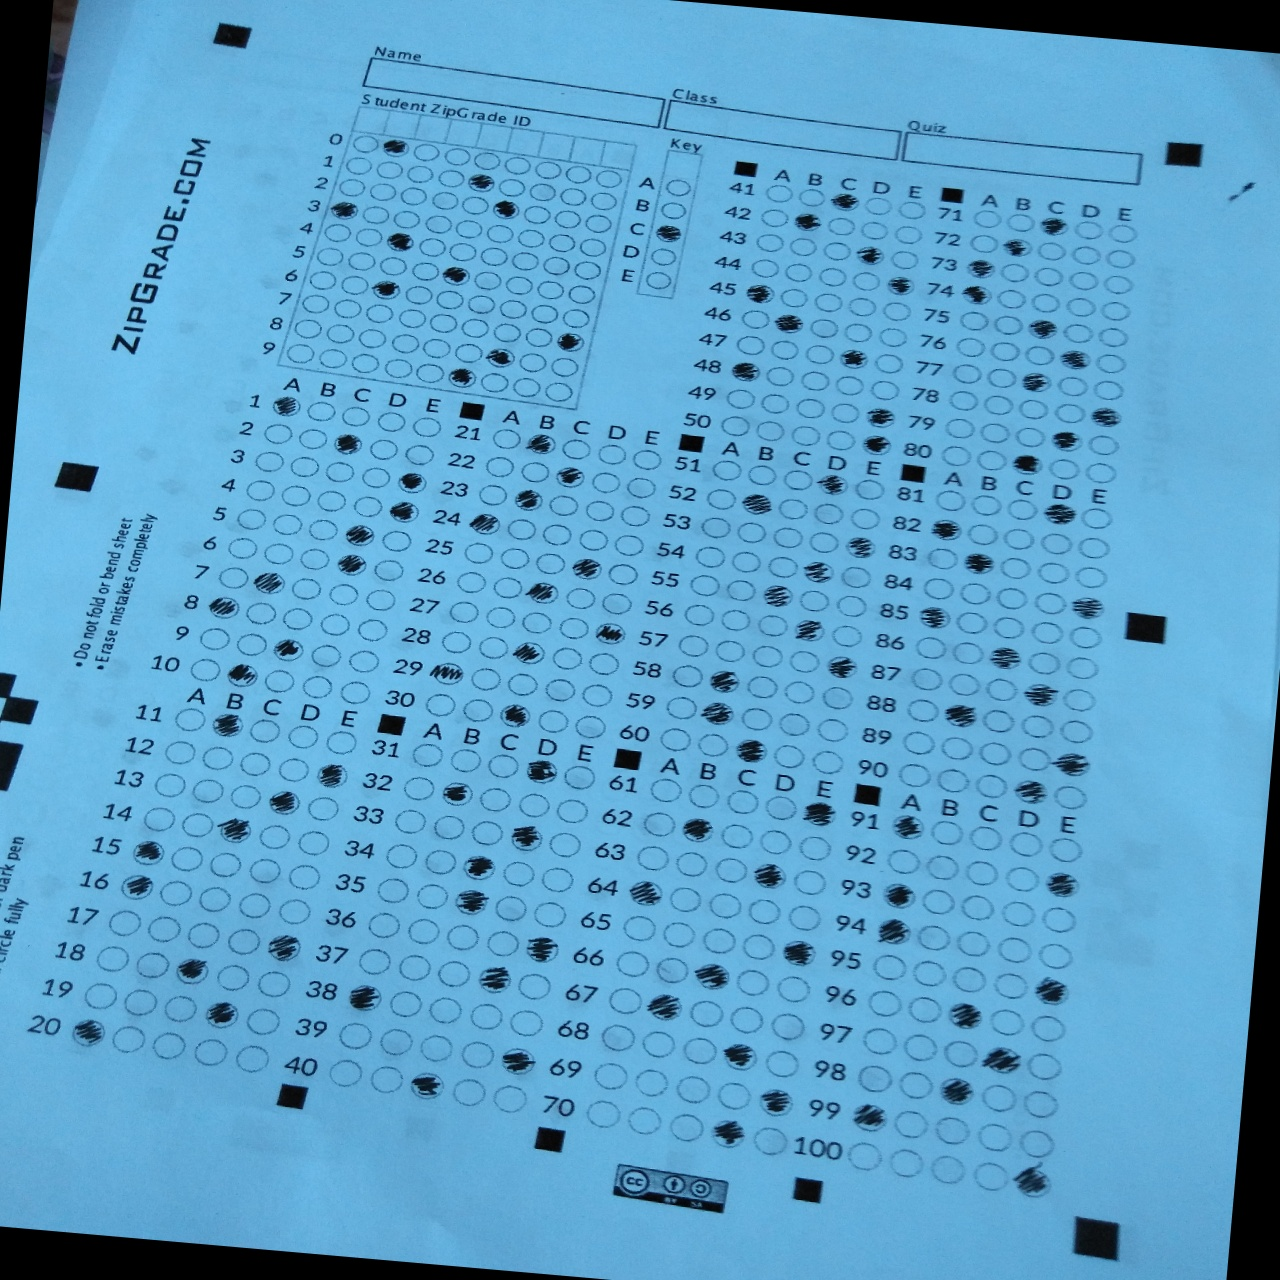not-c: (1015, 1126, 1058, 1160), (932, 1114, 974, 1148), (699, 924, 738, 958), (978, 1082, 1019, 1115), (971, 1160, 1012, 1193), (673, 1073, 712, 1107), (666, 883, 704, 917), (967, 823, 1006, 857), (1047, 833, 1085, 867), (713, 1080, 753, 1112), (631, 1067, 670, 1099), (604, 985, 644, 1017), (762, 1048, 802, 1081), (767, 1010, 806, 1043), (772, 973, 812, 1006), (704, 890, 744, 922), (685, 781, 724, 813), (1006, 829, 1046, 862), (1003, 863, 1043, 896), (1000, 897, 1040, 930), (910, 958, 949, 990), (871, 951, 911, 983), (990, 968, 1030, 1001), (1020, 1088, 1060, 1121), (974, 1121, 1014, 1153), (881, 845, 922, 877), (855, 1063, 896, 1095), (885, 1148, 926, 1179), (750, 1125, 789, 1158), (660, 919, 699, 952), (673, 846, 712, 879), (633, 842, 672, 874), (646, 774, 685, 806), (723, 787, 762, 819), (928, 816, 967, 849), (1040, 903, 1078, 935), (1036, 940, 1075, 973), (987, 1006, 1026, 1039), (1029, 1012, 1068, 1044), (901, 1032, 940, 1064), (862, 1024, 900, 1057), (624, 1104, 663, 1136), (666, 1111, 706, 1143), (611, 949, 651, 981), (680, 1034, 720, 1065), (733, 967, 772, 999), (738, 932, 778, 964), (712, 853, 751, 885), (924, 850, 964, 881), (995, 933, 1035, 965), (865, 986, 905, 1017), (896, 1069, 935, 1101), (891, 1108, 931, 1139), (844, 1141, 884, 1172), (927, 1153, 967, 1185), (246, 855, 284, 887), (400, 774, 437, 806), (121, 985, 158, 1017), (416, 1032, 454, 1064), (516, 971, 553, 1003), (593, 1060, 631, 1092), (954, 927, 992, 960), (475, 783, 513, 815), (234, 890, 273, 921), (244, 1005, 282, 1036), (584, 1098, 622, 1130), (619, 911, 658, 942), (653, 956, 692, 988), (640, 1029, 679, 1061), (728, 1005, 767, 1036), (785, 903, 824, 934), (791, 866, 830, 898), (797, 835, 836, 866), (716, 821, 755, 852), (639, 809, 678, 840), (919, 885, 958, 917), (958, 891, 996, 922), (962, 858, 1001, 890), (949, 964, 988, 995), (1024, 1050, 1063, 1082), (769, 740, 808, 771), (206, 849, 243, 881), (546, 829, 583, 862), (539, 862, 576, 894), (95, 942, 131, 975), (365, 908, 401, 941), (484, 750, 522, 782), (414, 880, 451, 912), (157, 877, 195, 908), (184, 919, 222, 951), (275, 896, 313, 927), (192, 1036, 230, 1068), (327, 1058, 365, 1090), (490, 1083, 527, 1115), (444, 921, 482, 953), (396, 952, 434, 983), (599, 1022, 636, 1054), (689, 998, 727, 1029), (745, 896, 783, 927), (757, 826, 795, 858), (762, 792, 799, 824), (915, 920, 953, 952), (905, 994, 942, 1026), (940, 1037, 978, 1069), (899, 728, 937, 760), (1063, 653, 1101, 685), (809, 745, 846, 777), (663, 692, 701, 723), (468, 818, 506, 849), (467, 1002, 505, 1033), (1057, 717, 1096, 748), (1060, 685, 1098, 715), (377, 1026, 413, 1058), (374, 876, 410, 907), (383, 842, 420, 873), (553, 796, 590, 828), (532, 898, 568, 930), (493, 892, 530, 924), (422, 846, 458, 878), (168, 843, 204, 874), (135, 949, 171, 981), (151, 1030, 188, 1062), (215, 961, 251, 993), (225, 926, 261, 958), (256, 968, 292, 1000), (335, 1020, 372, 1051), (459, 1040, 496, 1071), (355, 946, 392, 978), (435, 959, 471, 990), (428, 994, 464, 1026), (369, 1063, 406, 1095), (787, 645, 823, 676), (285, 862, 322, 892), (105, 908, 143, 939), (508, 1008, 545, 1039), (483, 928, 520, 959), (896, 761, 933, 791), (939, 735, 976, 765), (904, 694, 941, 724), (907, 665, 945, 695), (946, 669, 983, 700), (983, 674, 1021, 704), (980, 706, 1017, 736), (1053, 783, 1090, 813), (674, 631, 712, 661), (912, 633, 949, 663), (920, 572, 958, 602), (972, 771, 1010, 801), (410, 740, 445, 771), (561, 762, 597, 794), (406, 915, 441, 947), (392, 806, 428, 837), (447, 745, 483, 776), (516, 790, 552, 821), (145, 914, 182, 945), (83, 981, 120, 1012), (110, 1023, 147, 1054), (163, 994, 199, 1024), (198, 885, 234, 915), (234, 1043, 271, 1074), (450, 1076, 486, 1107), (388, 989, 424, 1020), (934, 765, 971, 796), (669, 662, 706, 693), (978, 738, 1015, 768), (1017, 712, 1055, 741), (694, 730, 731, 760), (658, 724, 695, 754), (712, 635, 749, 665), (737, 704, 775, 734), (501, 859, 536, 890), (431, 812, 467, 843), (1016, 743, 1053, 772), (750, 642, 787, 672), (781, 678, 817, 707), (743, 673, 779, 702), (755, 611, 791, 640), (813, 716, 851, 744), (680, 601, 717, 629), (829, 622, 866, 651), (998, 554, 1035, 583), (261, 667, 297, 696), (483, 602, 518, 632), (719, 607, 754, 636), (422, 690, 458, 719), (141, 805, 177, 833), (776, 710, 812, 738), (1033, 588, 1069, 617), (796, 588, 833, 615), (687, 571, 724, 598), (837, 564, 874, 591), (1024, 651, 1062, 678), (933, 488, 971, 515), (708, 456, 745, 483), (173, 706, 207, 735), (579, 681, 613, 710), (297, 829, 331, 858), (300, 673, 335, 701), (188, 656, 223, 685), (535, 706, 570, 734), (543, 676, 578, 704), (468, 666, 503, 694), (476, 634, 511, 662), (550, 645, 585, 673), (445, 598, 481, 626), (452, 568, 488, 597), (598, 588, 633, 617), (285, 723, 320, 751), (277, 756, 312, 784), (189, 776, 224, 804), (821, 683, 856, 712), (703, 486, 738, 515), (723, 576, 760, 602), (692, 543, 728, 570), (728, 549, 764, 576), (949, 639, 986, 666), (1029, 619, 1065, 646), (1067, 625, 1103, 652), (954, 610, 990, 636), (956, 580, 993, 607), (993, 584, 1029, 611), (1035, 560, 1071, 587), (1001, 526, 1037, 553), (964, 522, 1000, 549), (968, 490, 1005, 517), (1076, 535, 1112, 561), (1036, 530, 1073, 557), (1073, 564, 1109, 591), (925, 545, 961, 572), (806, 527, 843, 554), (771, 523, 808, 550), (733, 519, 769, 546), (696, 515, 733, 542), (811, 501, 847, 527), (846, 505, 883, 532), (851, 476, 887, 503), (781, 467, 817, 493), (745, 462, 782, 489), (338, 678, 372, 706), (554, 615, 588, 644), (561, 584, 595, 612), (606, 560, 640, 588), (248, 717, 282, 745), (324, 729, 358, 757), (200, 744, 234, 772), (163, 738, 197, 767), (154, 771, 188, 799), (181, 812, 215, 840), (229, 783, 263, 811), (506, 670, 542, 697), (587, 651, 622, 678), (519, 610, 554, 636), (489, 576, 524, 602), (239, 751, 274, 778), (305, 795, 340, 822), (833, 593, 869, 620), (765, 554, 801, 581), (990, 615, 1026, 642), (1005, 495, 1040, 522), (1078, 505, 1114, 532), (776, 497, 812, 523), (244, 477, 278, 504), (297, 546, 331, 573), (290, 576, 324, 602), (234, 631, 268, 658), (459, 696, 493, 723), (573, 714, 607, 741), (440, 629, 474, 656), (535, 551, 568, 578), (576, 527, 610, 554), (258, 823, 292, 850), (719, 413, 753, 440), (874, 324, 908, 350), (1030, 263, 1064, 290), (1069, 241, 1103, 268), (850, 268, 884, 295), (753, 229, 787, 256), (381, 527, 414, 554), (356, 617, 389, 644), (309, 642, 342, 669), (498, 544, 531, 571), (540, 522, 573, 549), (518, 458, 551, 485), (872, 350, 905, 377), (234, 505, 268, 531), (306, 517, 340, 543), (217, 565, 251, 591), (327, 581, 361, 607), (281, 605, 315, 631), (244, 600, 278, 626), (461, 540, 495, 566), (611, 532, 645, 558), (595, 443, 629, 469), (559, 436, 593, 462), (489, 425, 523, 451), (823, 427, 857, 452), (833, 373, 867, 399), (722, 386, 756, 411), (769, 338, 803, 363), (733, 333, 767, 359), (974, 448, 1008, 474), (956, 309, 990, 335), (988, 338, 1022, 363), (1017, 396, 1051, 422), (1014, 425, 1048, 451), (1048, 455, 1082, 481), (1082, 459, 1116, 485), (1087, 433, 1121, 458), (1056, 373, 1090, 399), (1094, 352, 1128, 377), (1022, 342, 1056, 368), (1062, 321, 1096, 347), (1065, 294, 1099, 320), (1030, 291, 1064, 316), (1099, 271, 1133, 297), (1107, 222, 1141, 247), (1073, 217, 1107, 243), (1035, 238, 1069, 264), (967, 231, 1001, 257), (971, 205, 1005, 231), (749, 256, 783, 281), (794, 184, 828, 210), (483, 454, 515, 481), (305, 399, 338, 424), (324, 459, 356, 485), (315, 489, 348, 515), (225, 536, 258, 561), (365, 587, 397, 613), (319, 612, 352, 638), (197, 626, 230, 652), (504, 517, 537, 543), (619, 504, 652, 530), (476, 482, 509, 508), (590, 470, 622, 496), (625, 475, 658, 501), (631, 447, 663, 472), (754, 418, 787, 444), (788, 422, 821, 448), (869, 379, 901, 404), (763, 363, 796, 389), (798, 368, 831, 394), (804, 341, 837, 367), (840, 320, 873, 346), (812, 290, 845, 315), (778, 284, 811, 309), (954, 334, 987, 360), (985, 365, 1017, 390), (982, 393, 1015, 418), (1091, 377, 1124, 403), (1104, 246, 1137, 272), (817, 264, 850, 290), (762, 181, 795, 206), (338, 406, 372, 430), (297, 427, 331, 451), (373, 558, 407, 583), (346, 649, 380, 674), (583, 499, 617, 524), (546, 493, 580, 518), (847, 295, 881, 320), (940, 443, 974, 468), (978, 421, 1012, 445), (947, 389, 981, 414), (1051, 401, 1085, 425), (998, 261, 1032, 286), (1005, 210, 1039, 234), (756, 205, 790, 230), (824, 215, 858, 239), (860, 195, 896, 218), (411, 414, 443, 440), (783, 260, 815, 286), (374, 409, 407, 434), (359, 465, 392, 490), (352, 493, 384, 518), (271, 512, 304, 537), (261, 542, 294, 566), (795, 396, 828, 421), (758, 390, 791, 415), (738, 306, 771, 331), (808, 316, 840, 341), (879, 299, 912, 324), (942, 417, 975, 442), (951, 362, 983, 387), (992, 313, 1024, 338), (1096, 324, 1129, 348), (1099, 299, 1132, 324), (787, 234, 821, 258), (428, 309, 459, 334), (263, 421, 294, 445), (252, 449, 284, 474), (288, 454, 320, 478), (280, 483, 312, 508), (830, 401, 862, 425), (367, 437, 400, 461), (995, 286, 1028, 309), (1065, 267, 1098, 291), (897, 199, 930, 223), (890, 223, 922, 246), (511, 248, 542, 273), (566, 282, 597, 307), (389, 332, 420, 356), (502, 154, 533, 177), (496, 176, 527, 199), (577, 236, 608, 259), (484, 222, 516, 245), (452, 217, 484, 240), (339, 273, 370, 297), (535, 278, 566, 301), (307, 268, 339, 292), (527, 302, 559, 326), (396, 307, 428, 331), (333, 297, 365, 320), (316, 347, 348, 370), (404, 443, 436, 467), (561, 164, 594, 186), (888, 248, 921, 271), (822, 239, 855, 261), (471, 149, 502, 172), (594, 166, 625, 190), (522, 204, 552, 227), (546, 231, 577, 254), (361, 203, 392, 226), (478, 245, 509, 268), (540, 254, 571, 278), (314, 245, 345, 268), (321, 222, 352, 245), (403, 284, 434, 307), (497, 297, 527, 320), (518, 350, 549, 374), (459, 316, 490, 340), (300, 292, 331, 315), (355, 327, 386, 350), (479, 372, 510, 395), (556, 186, 587, 209), (374, 159, 406, 182), (367, 181, 399, 203), (583, 213, 614, 236), (345, 248, 376, 271), (572, 259, 604, 281), (523, 326, 554, 348), (491, 322, 523, 345), (292, 316, 324, 339), (421, 336, 452, 359), (543, 381, 574, 403), (434, 290, 467, 311), (411, 141, 441, 164), (430, 189, 459, 212), (663, 177, 693, 200), (417, 236, 447, 259), (474, 270, 503, 293), (467, 293, 496, 316), (350, 132, 381, 155), (587, 190, 618, 212), (404, 163, 435, 185), (343, 155, 374, 177), (399, 185, 429, 207), (659, 200, 689, 223), (423, 212, 454, 234), (392, 209, 422, 231), (354, 226, 384, 248), (504, 274, 535, 297), (365, 302, 395, 325), (325, 324, 355, 346), (549, 355, 579, 377), (511, 376, 542, 399), (415, 362, 445, 384), (349, 352, 380, 374), (285, 342, 315, 365), (458, 195, 490, 216), (447, 241, 478, 263), (858, 220, 890, 241), (533, 158, 563, 181), (527, 181, 557, 203), (437, 168, 467, 190), (338, 176, 367, 198), (649, 246, 679, 268), (644, 268, 673, 291), (561, 308, 591, 331), (442, 145, 472, 166), (552, 207, 583, 229), (516, 229, 546, 250), (379, 256, 409, 277), (410, 261, 441, 282), (452, 343, 483, 365), (383, 358, 414, 379)
taken-c: (945, 999, 989, 1035), (1012, 1166, 1055, 1201), (708, 1115, 749, 1150), (982, 1043, 1023, 1078), (937, 1075, 976, 1110), (1030, 976, 1074, 1008), (850, 1101, 888, 1136), (200, 999, 241, 1032), (520, 757, 561, 790), (874, 915, 915, 948), (886, 812, 928, 844), (941, 701, 983, 733), (475, 964, 515, 996), (506, 822, 546, 855), (1021, 678, 1061, 710), (172, 956, 213, 988), (67, 1017, 108, 1049), (343, 983, 384, 1015), (407, 1069, 448, 1101), (522, 934, 563, 966), (449, 886, 490, 918), (458, 853, 499, 885), (493, 701, 535, 733), (879, 878, 920, 910), (1054, 749, 1095, 781), (499, 1044, 538, 1077), (264, 933, 304, 965), (436, 779, 476, 811), (1010, 776, 1050, 808), (987, 644, 1027, 675), (779, 938, 818, 969), (756, 1087, 795, 1118), (679, 815, 719, 845), (1043, 869, 1083, 899), (217, 816, 256, 846), (128, 838, 166, 869), (117, 872, 156, 903), (626, 878, 665, 908), (647, 992, 686, 1022), (721, 1042, 760, 1073), (251, 568, 290, 598), (801, 799, 839, 829), (751, 862, 790, 891), (915, 604, 954, 633), (224, 661, 261, 690), (313, 761, 350, 790), (734, 737, 771, 767), (695, 962, 733, 992), (961, 551, 999, 580), (930, 515, 967, 544), (1070, 594, 1109, 622), (206, 593, 243, 622), (266, 788, 302, 817), (509, 639, 545, 668), (467, 511, 503, 540), (271, 636, 308, 665), (824, 653, 862, 681), (1048, 427, 1085, 455), (430, 659, 465, 688), (592, 620, 627, 649), (526, 579, 561, 608), (522, 429, 557, 458), (509, 486, 545, 515), (801, 558, 837, 586), (701, 700, 737, 728), (1001, 233, 1037, 261), (210, 712, 247, 738), (708, 668, 745, 695), (1041, 502, 1078, 529), (568, 554, 604, 583), (551, 464, 586, 492), (760, 583, 796, 610), (792, 617, 829, 644), (1088, 404, 1124, 431), (1017, 369, 1054, 396), (1057, 346, 1094, 373), (1024, 316, 1061, 343), (958, 282, 994, 309), (1036, 215, 1073, 241), (835, 343, 869, 372), (851, 241, 886, 268), (728, 358, 763, 384), (859, 433, 894, 459), (1010, 452, 1046, 479), (964, 256, 999, 282), (343, 522, 377, 549), (334, 551, 368, 578), (828, 188, 862, 215), (772, 309, 806, 336), (740, 490, 774, 517), (386, 499, 421, 525), (883, 273, 918, 299), (815, 474, 850, 499), (843, 535, 878, 560), (789, 210, 824, 234), (741, 281, 776, 306), (862, 404, 897, 429), (270, 394, 302, 420), (395, 470, 428, 496), (445, 365, 479, 389), (331, 431, 365, 456), (384, 230, 417, 254), (441, 264, 474, 288), (484, 346, 517, 370), (652, 222, 685, 246), (380, 136, 413, 159), (464, 171, 497, 195), (490, 198, 522, 222), (329, 198, 361, 222), (372, 279, 403, 302), (554, 331, 586, 354)
